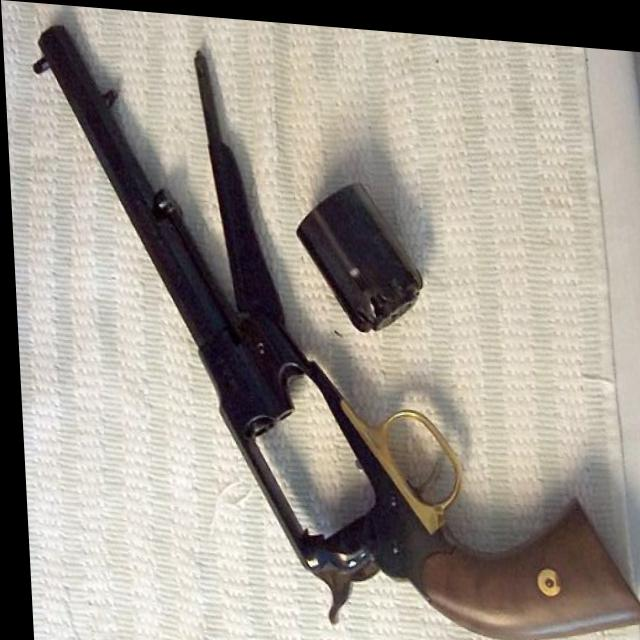handgun: (27, 22, 640, 640)
